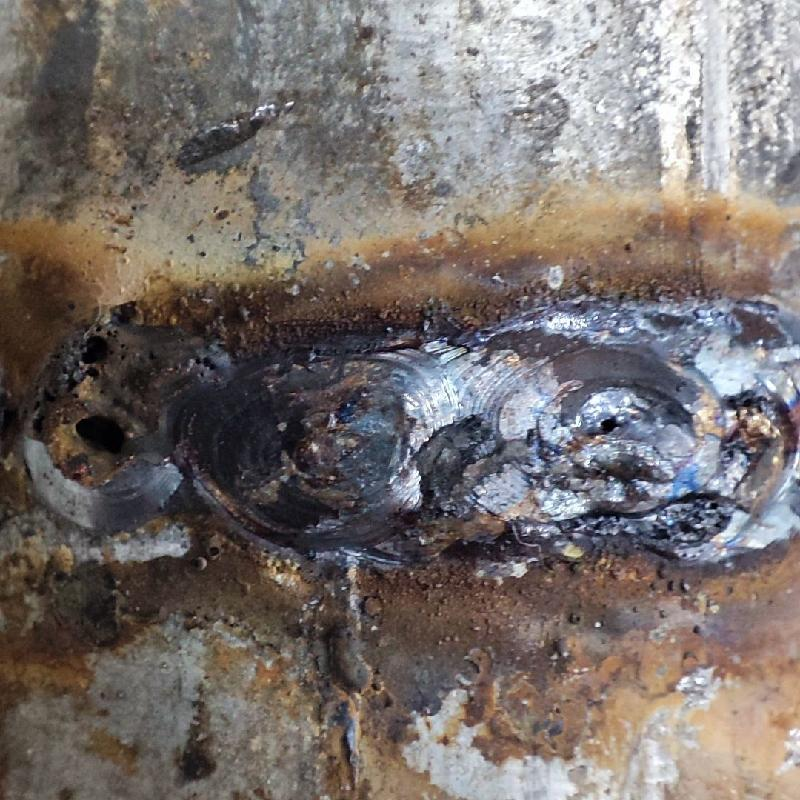Surface_pores: (66, 400, 137, 460), (588, 406, 633, 450)
